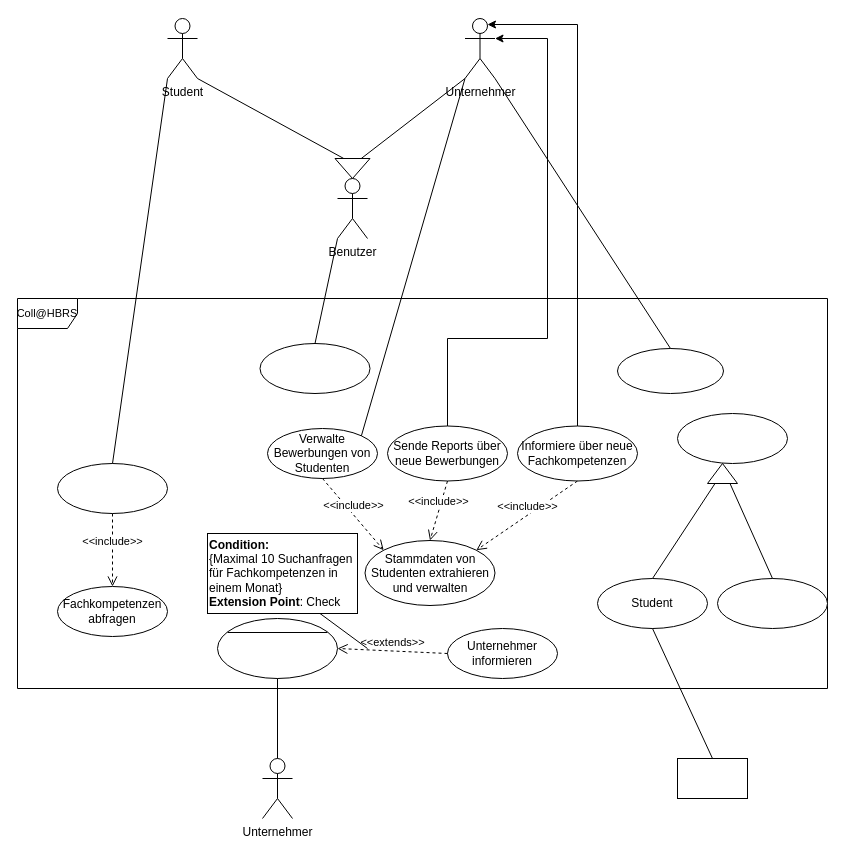
Image size: 845x857. Some labels were removed from this diagram. Here are the shapes that lost their labels. From the top down, the centre of each, then its label:
At [314,368]: "Login eines registrierten Benutzers".
At [670,371]: "Stellenanzeige aufgeben".
At [732,438]: "Benutzer registrieren".
At [112,488]: "Fachkompetenzen verwaltet".
At [772,603]: "Unternehmen".
At [277,648]: "Extension Points EP:Check".
At [712,778]: "SIS".
